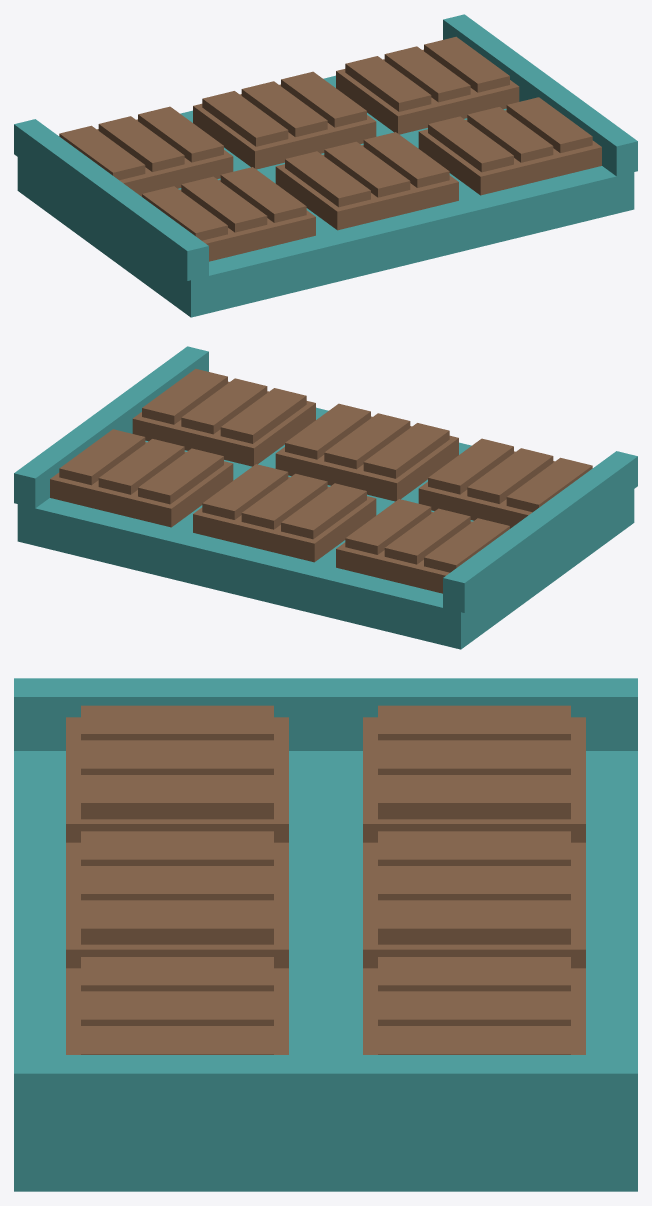
The model's file is chocolate-and-confectionery-factory-bar-mould-tray-2e67c5f7__36768.glb.
3 renders of one model, top to bottom at view 1: azimuth 30°, elevation 25°; view 2: azimuth 150°, elevation 25°; view 3: azimuth 270°, elevation 25°, orthographic. The views are drawn at different scales.
Parts seen in each view (by area): view 1: bar-mould-tray; view 2: bar-mould-tray; view 3: bar-mould-tray.
Boxes of the visible parts, x1,y1,x2,y2 form: bar-mould-tray: (14, 14, 637, 317); bar-mould-tray: (14, 346, 637, 649); bar-mould-tray: (14, 678, 637, 1191).
Bounding box in the file's own units: 0.63 × 0.09 × 0.42.
